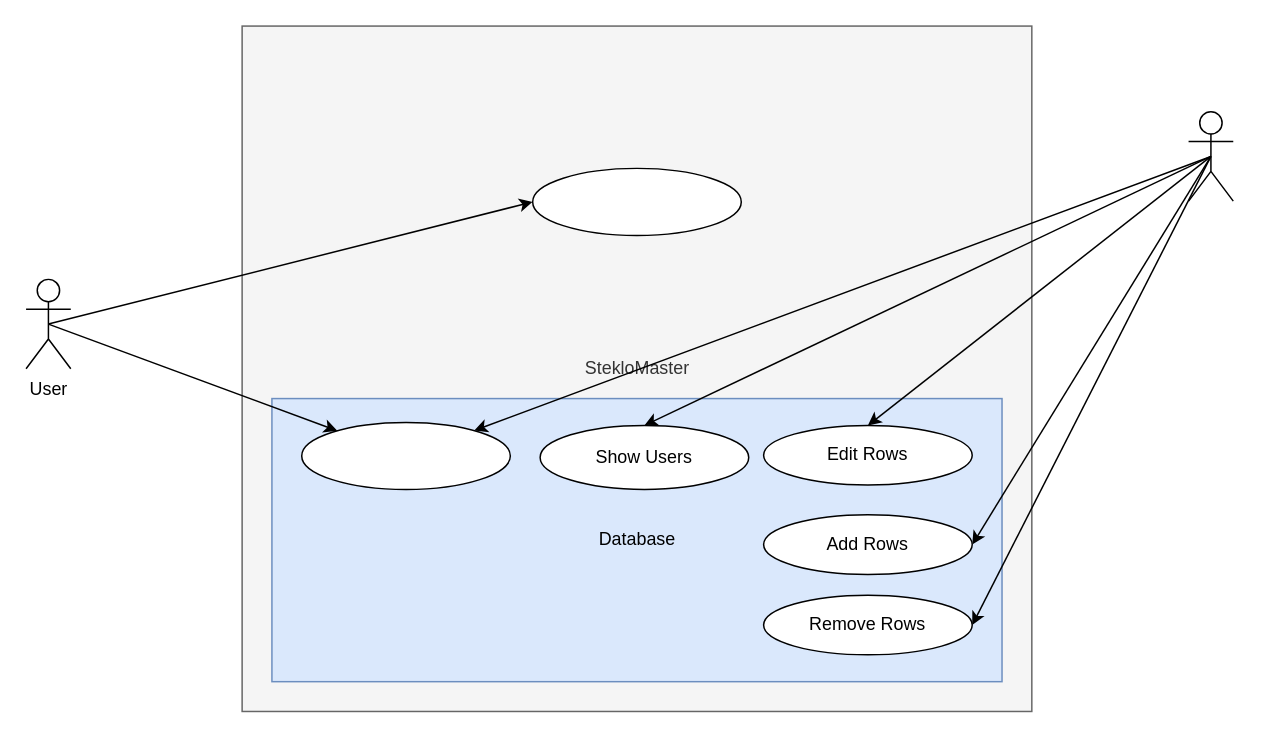
Image size: 1262x738. Some labels were removed from this diagram. The shapes that lost their labels are listed below. From the top down, each one's centre as x and y in pixels, then its label:
pixel 1210 155: Admin
pixel 636 201: Compute Order
pixel 405 455: Show Materials
